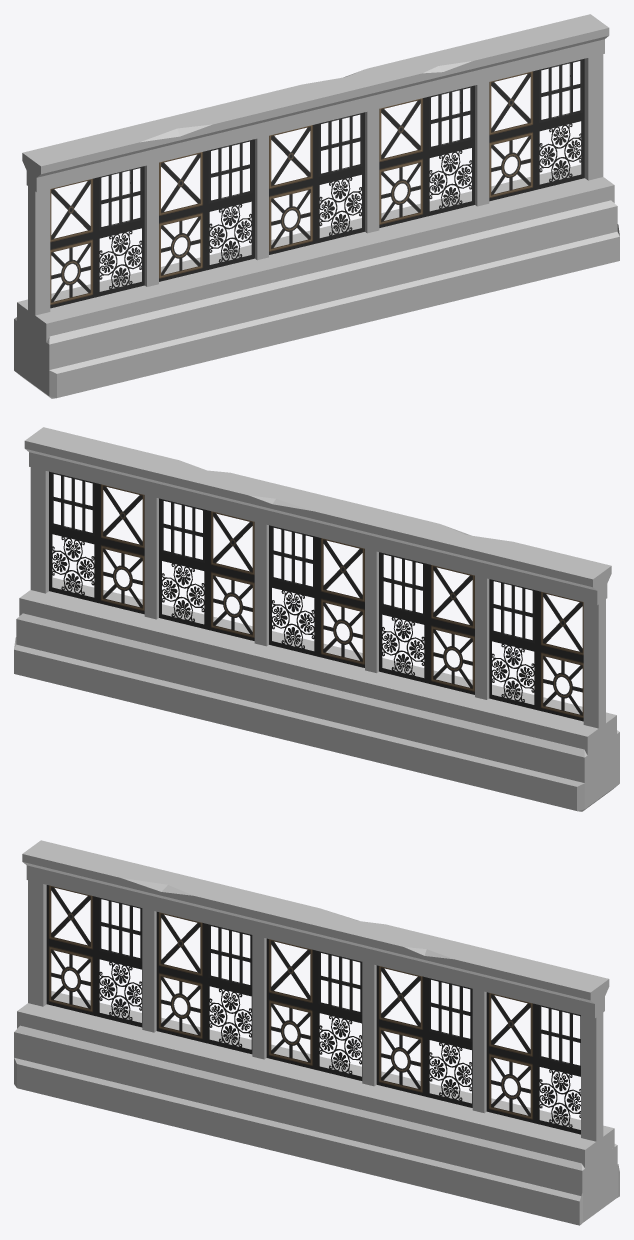
The model's file is SM_Bld_Wall_Balcony_03.fbx.
3 renders of one model, top to bottom at view 1: azimuth 30°, elevation 25°; view 2: azimuth 150°, elevation 25°; view 3: azimuth 330°, elevation 25°, orthographic.
Visible parts, largest first — view 1: SM_Bld_Wall_Balcony_03; view 2: SM_Bld_Wall_Balcony_03; view 3: SM_Bld_Wall_Balcony_03.
Part boxes in pixels (left/top/right/bottom): SM_Bld_Wall_Balcony_03: left=14, top=14, right=619, bottom=398; SM_Bld_Wall_Balcony_03: left=14, top=427, right=619, bottom=811; SM_Bld_Wall_Balcony_03: left=14, top=840, right=619, bottom=1225.
Size of the model in its own units: 250 by 96.6 by 30.61.
